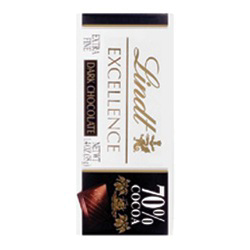grozi_65: (74, 8, 174, 238)
